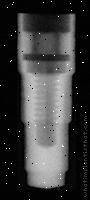DENTSPLY: (15, 13, 77, 191)
